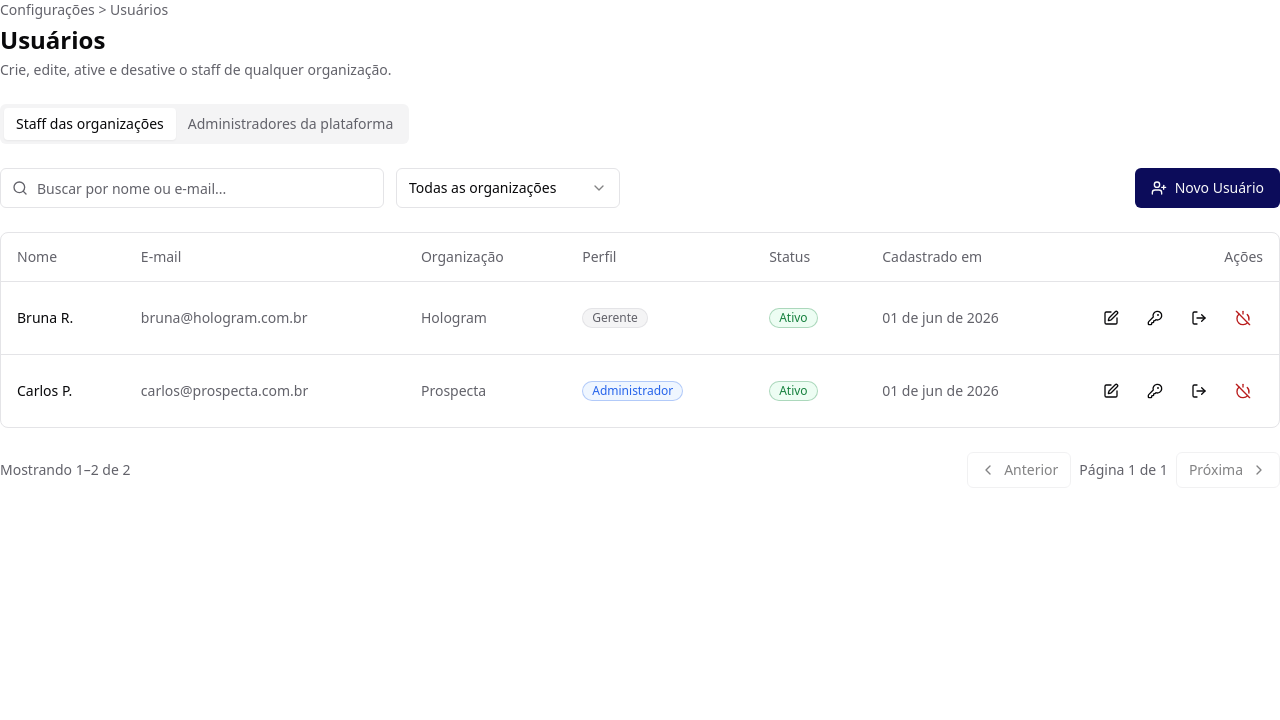
Test: Redefinir senha (86e3ewukz) — só a plataforma › a plataforma vê a ação em cada staff e o diálogo manda só a senha
Click the button named "Redefinir senha de Bruna R.": (1155, 318) [1135, 298, 1175, 338]
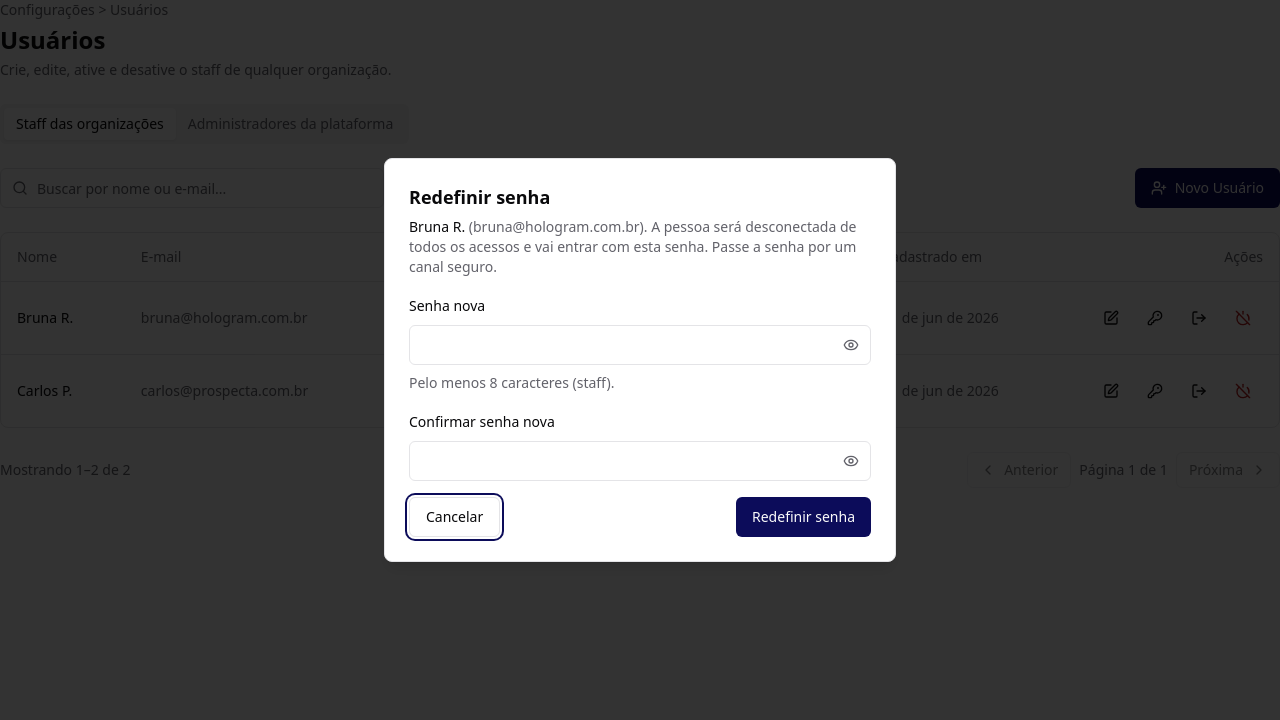
Expected: the dialog "Redefinir senha" shows "Bruna R.", [409, 217, 465, 236]
Expected: the dialog "Redefinir senha" shows "desconectada de todos os acessos", [409, 217, 856, 276]
Expected: the dialog "Redefinir senha" shows "Pelo menos 8 caracteres", [384, 158, 896, 562]
# Confirmação que não bate: erro no campo, nada enviado.
In the password field labelled "Senha nova": (640, 345) [409, 325, 871, 365], type "Senh@Nova#123"
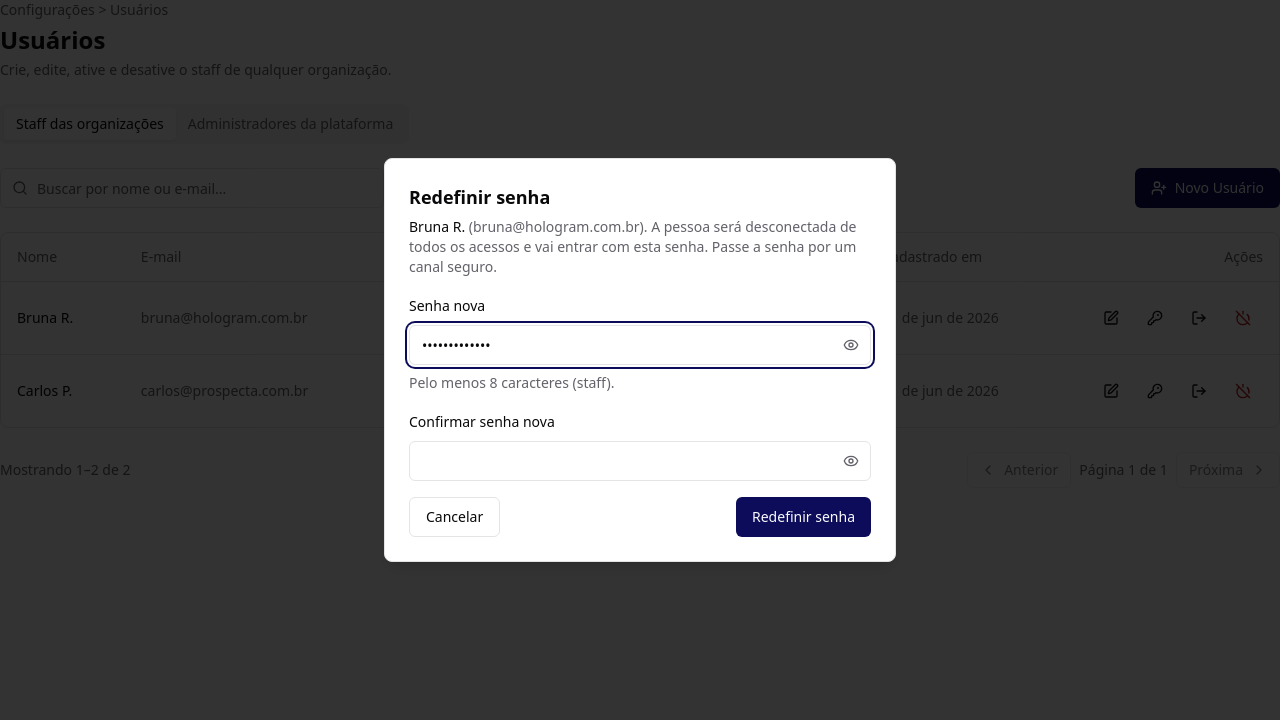
In the password field labelled "Confirmar senha nova": (640, 461) [409, 441, 871, 481], type "outra"
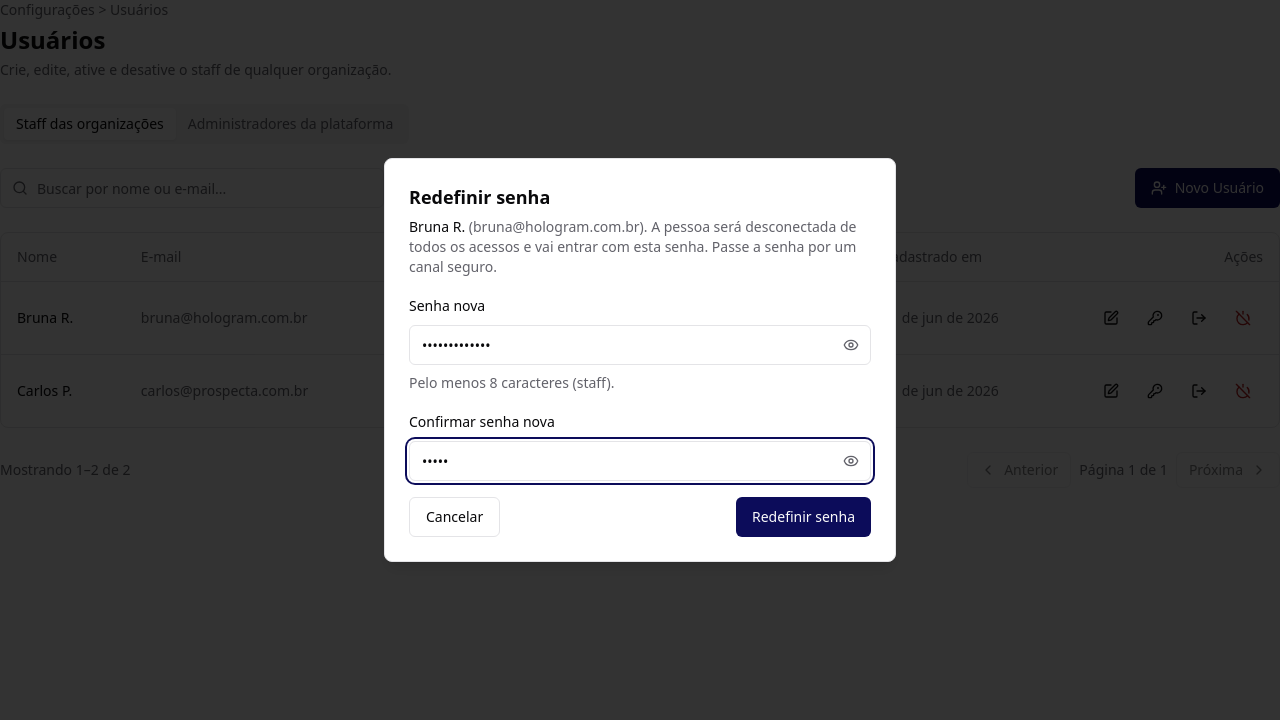
Click the button "Redefinir senha": (804, 517) [736, 497, 871, 537]
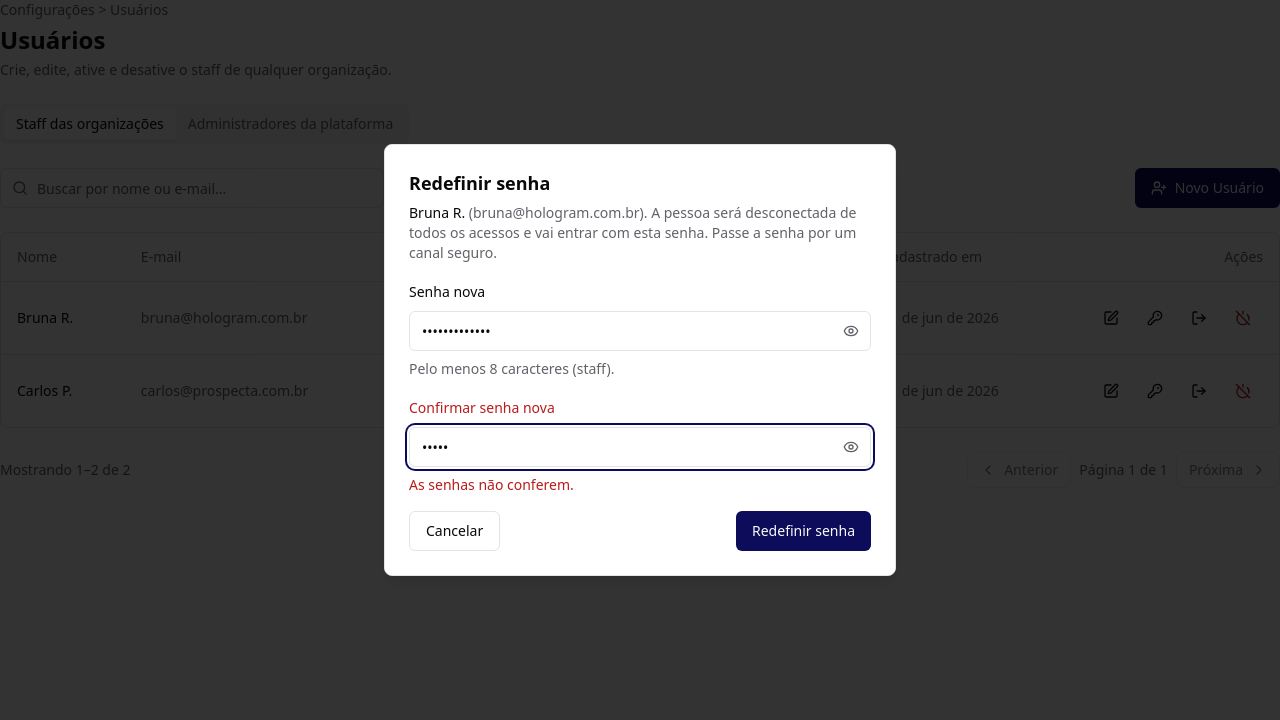
Expected: the text "As senhas não conferem." is shown, [409, 475, 574, 494]
In the password field labelled "Confirmar senha nova": (640, 447) [409, 427, 871, 467], type "Senh@Nova#123"
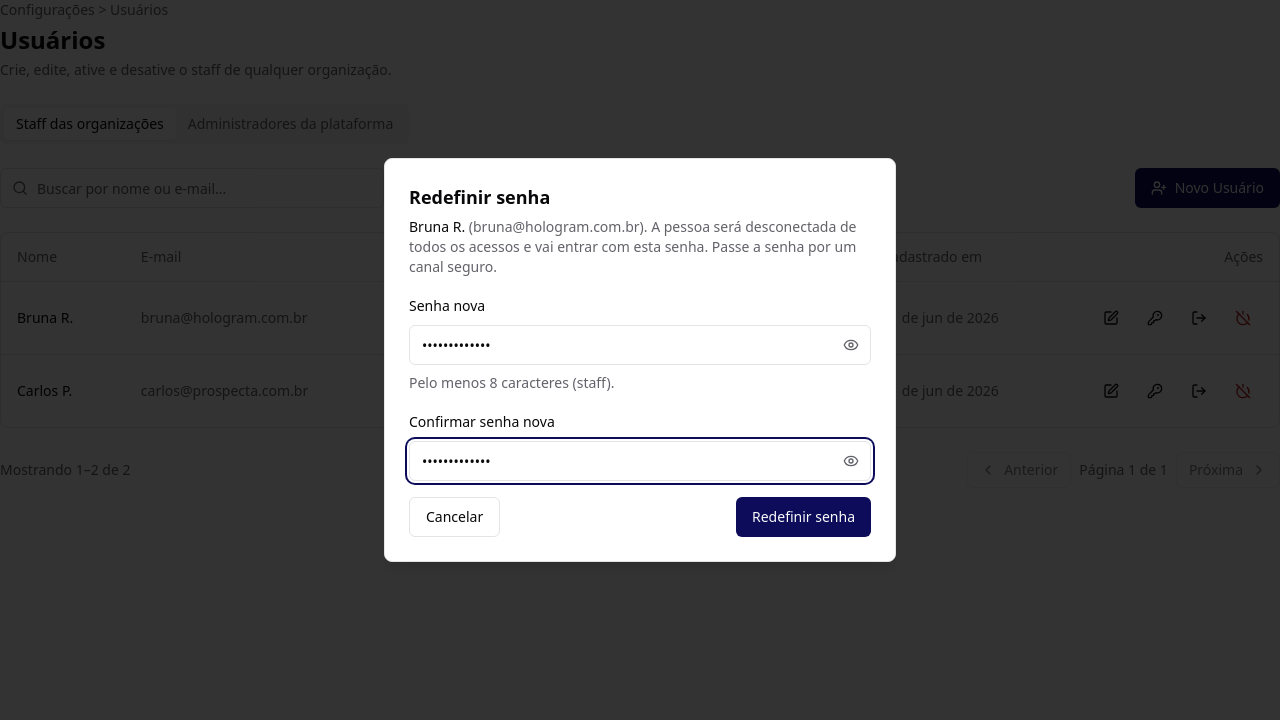
Click the button "Redefinir senha": (804, 517) [736, 497, 871, 537]
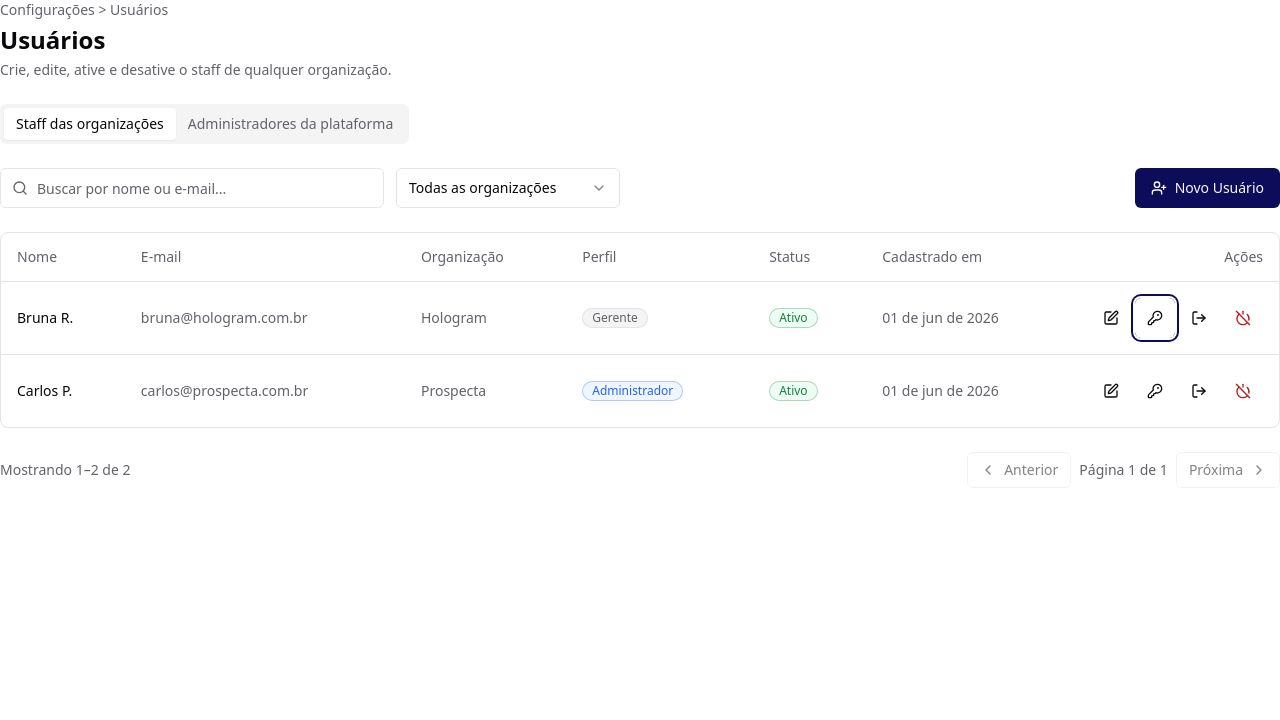
Expected: the dialog is gone
